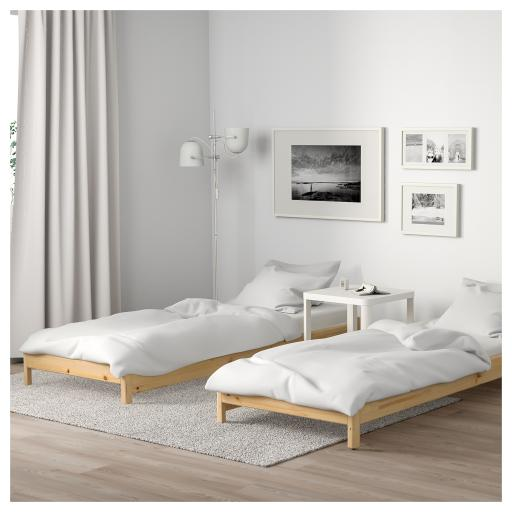bed: (204, 277, 502, 450), (17, 258, 360, 405)
